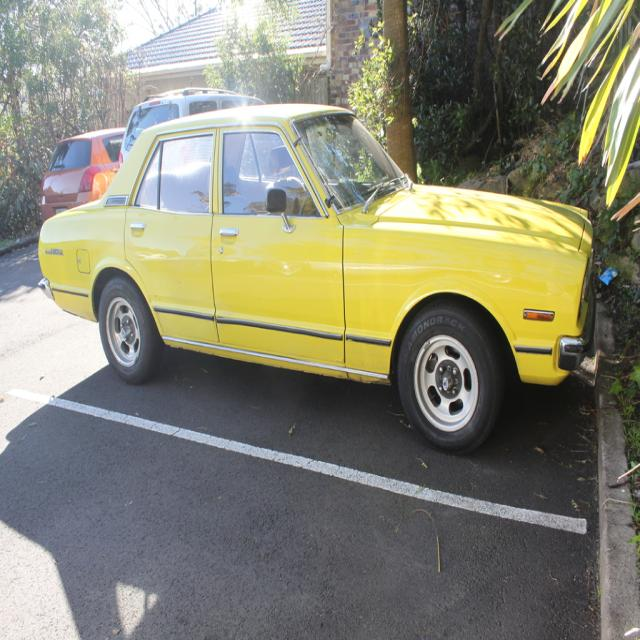car: (36, 102, 598, 457)
